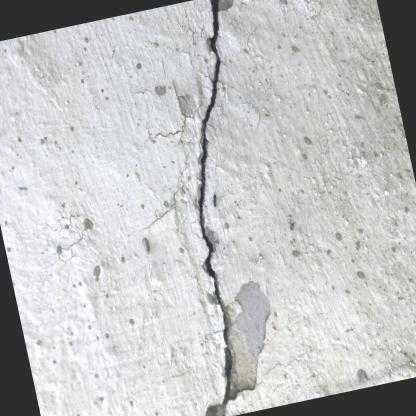crack: (195, 0, 269, 416)
